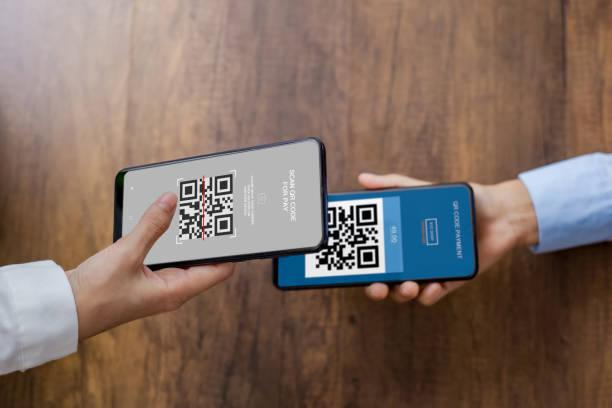Finder pattern: (354, 201, 381, 229), (210, 211, 236, 238), (355, 244, 381, 270), (178, 179, 201, 203), (212, 173, 234, 198), (324, 206, 339, 229)
